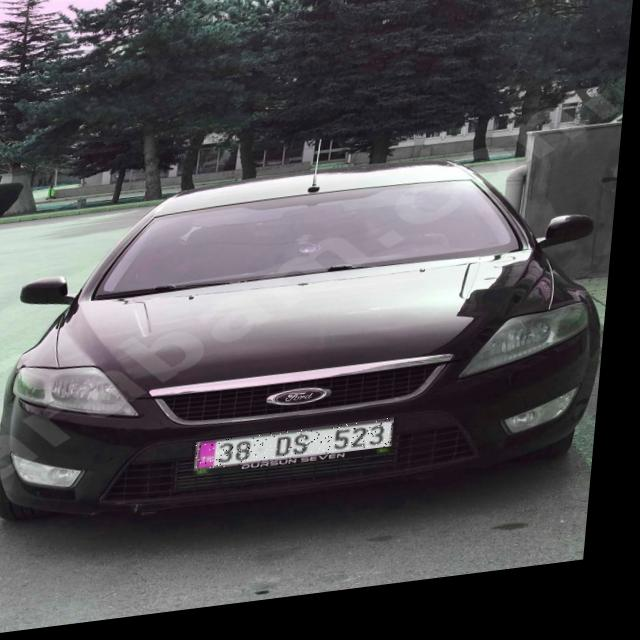license_plate: (203, 429, 403, 477)
